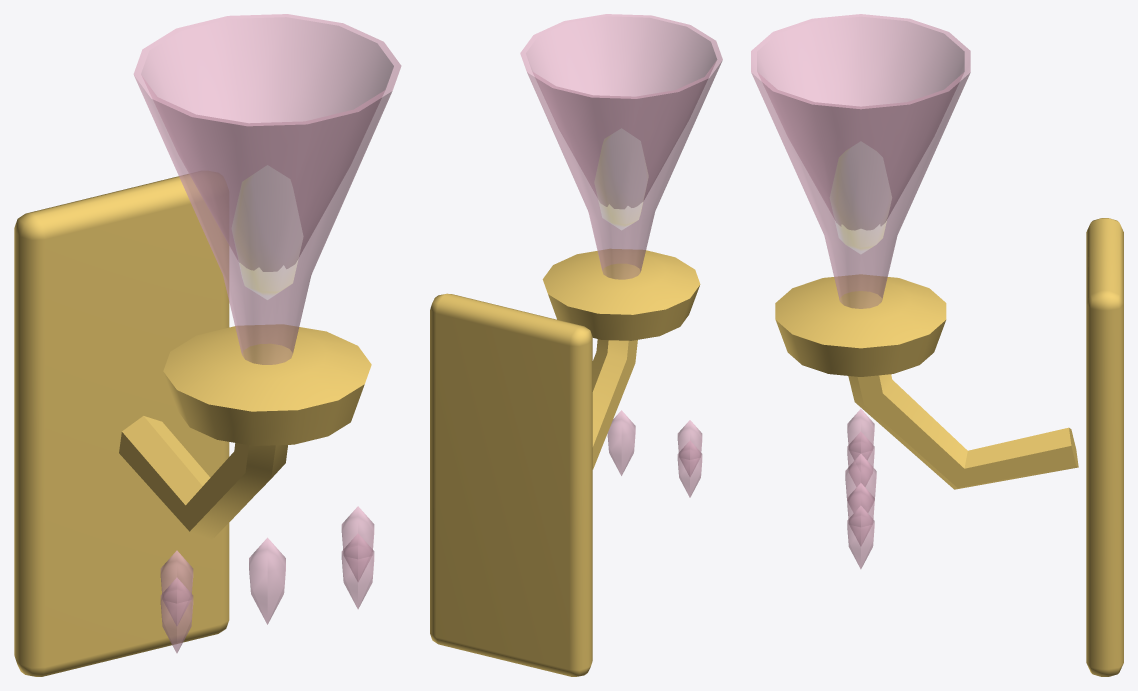
File: wall_sconce.glb
3 views of the same model, side by side, from view 1: azimuth 30°, elevation 25°; view 2: azimuth 150°, elevation 25°; view 3: azimuth 270°, elevation 25° (orthographic). The views are drawn at different scales.
Visible parts, largest first — view 1: wall_sconce; view 2: wall_sconce; view 3: wall_sconce.
Part boxes in pixels (x1,y1,x2,y2): wall_sconce: (14, 14, 401, 676); wall_sconce: (430, 14, 722, 676); wall_sconce: (751, 14, 1123, 676).
Size of the model in its own units: 0.18 by 0.51 by 0.2977.
